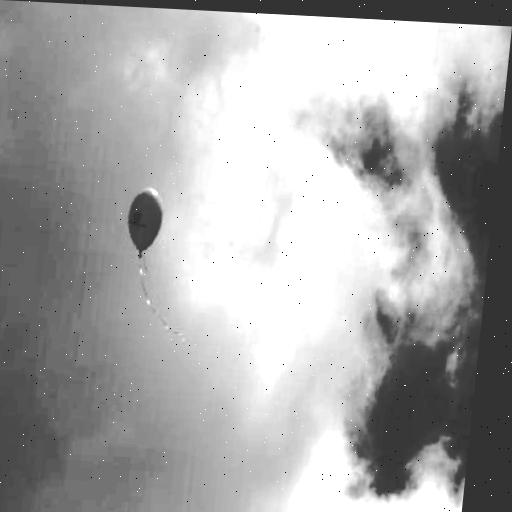balloon: (119, 177, 175, 261)
